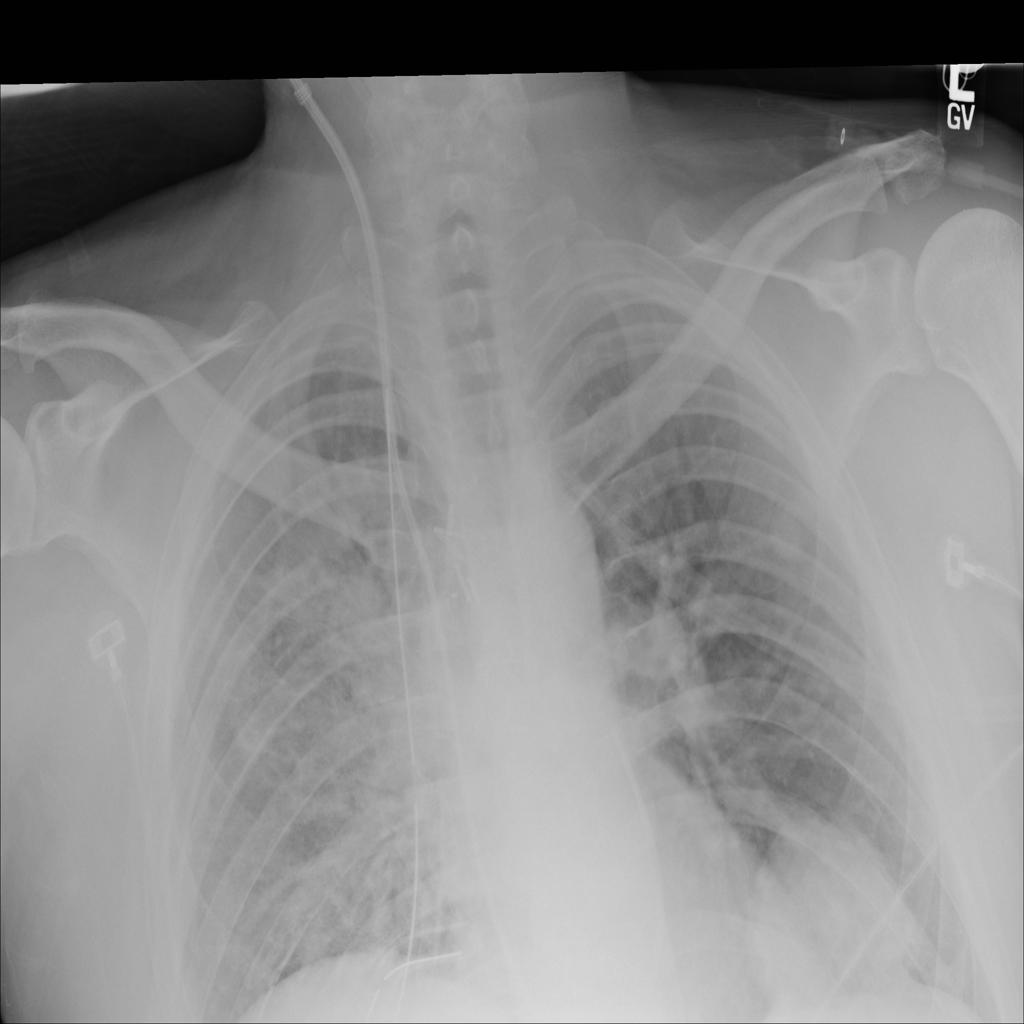nodule: (700, 791, 957, 1008), (755, 499, 823, 576)
